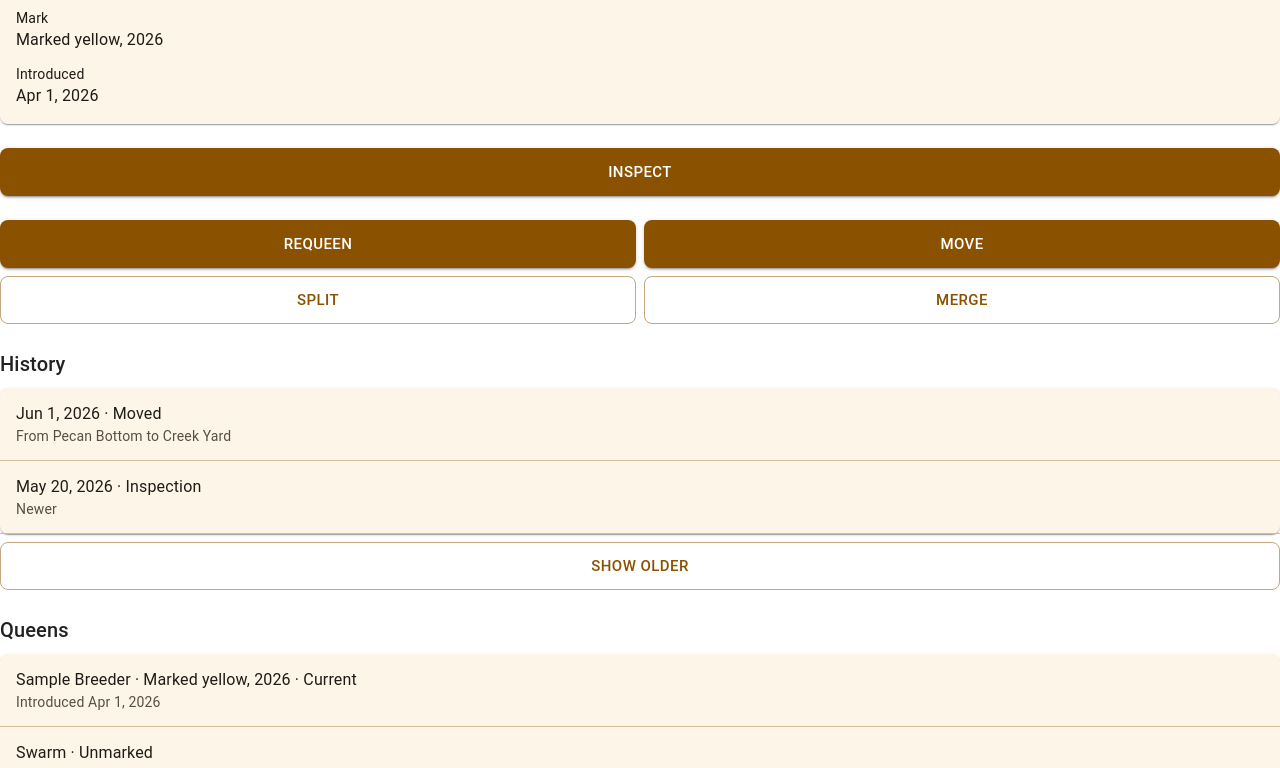
Test case: ColonyDetail › should read older inspections a page at a time when the family asks for them
(page scrolled)
Check: the text "Newer" is shown, box [16,501,57,517]
Check: the text "Registered" is not shown
Click the button "Show older".
click(640, 566)  # box [0,542,1279,590]
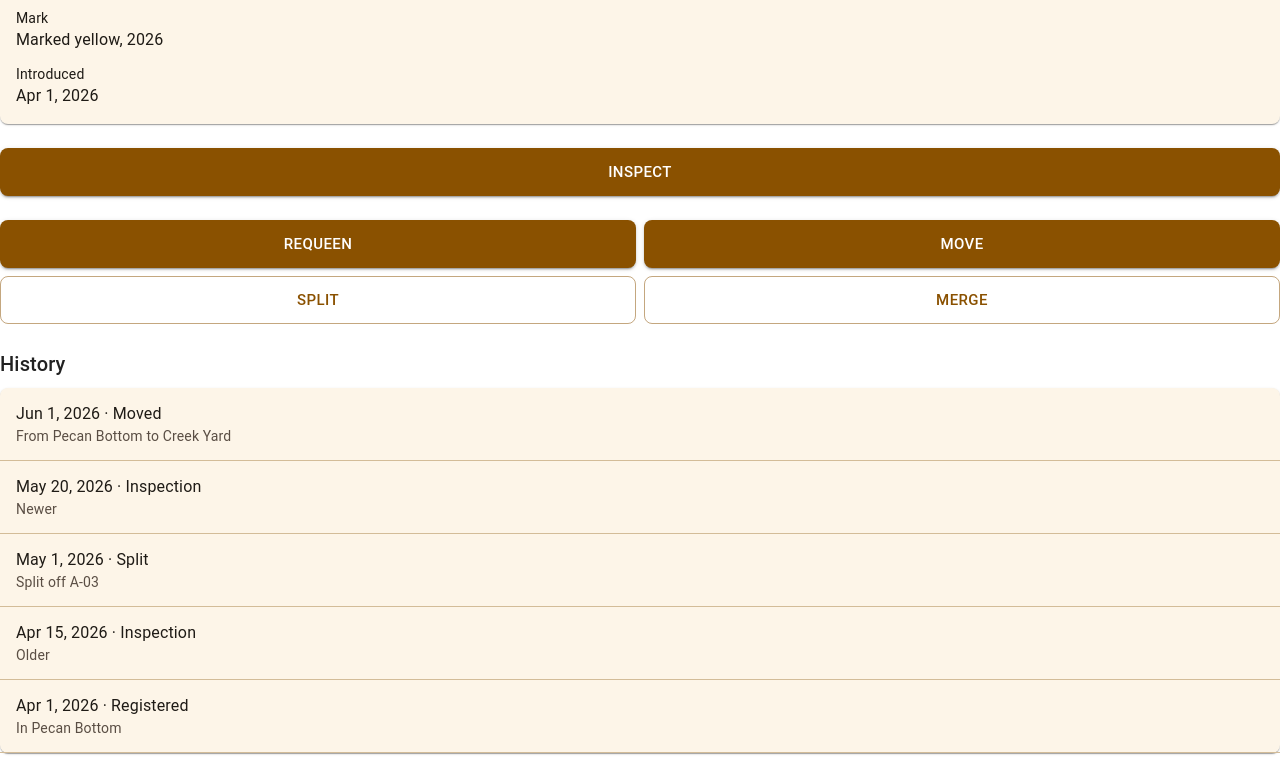
Check: the text "Older" is shown, box [16,647,50,663]
Check: the text "Apr 1, 2026 · Registered" is shown, box [16,696,189,715]
Check: the button "Show older" is gone
